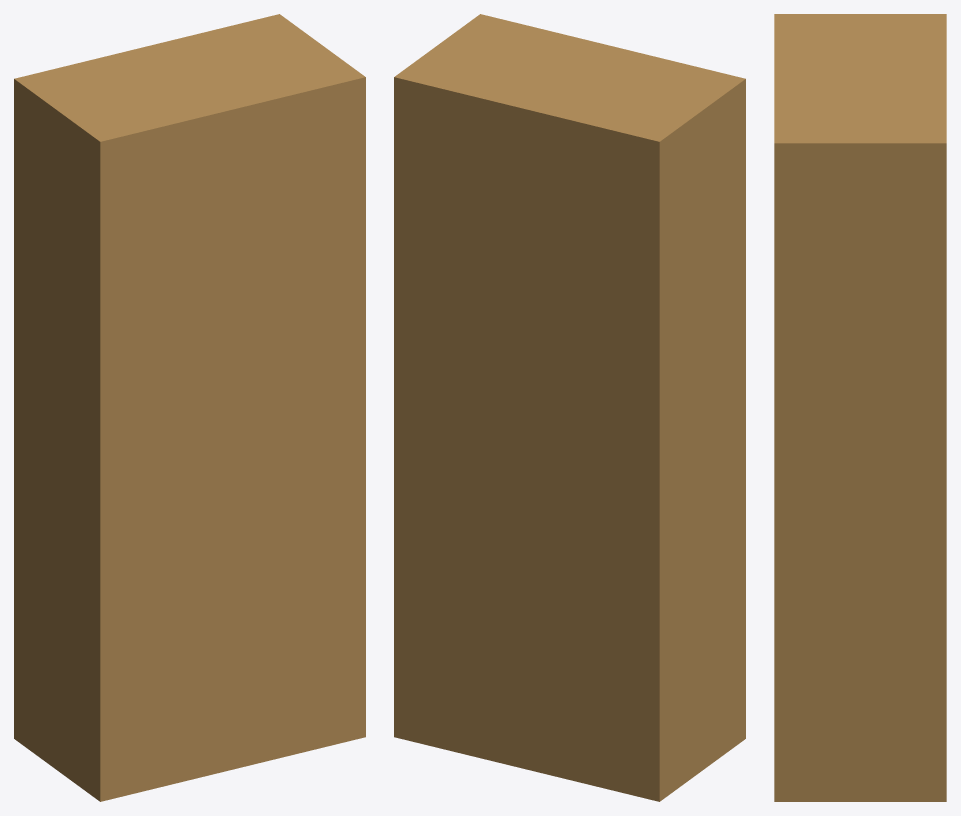
3 renders of one model, left to right at view 1: azimuth 30°, elevation 25°; view 2: azimuth 150°, elevation 25°; view 3: azimuth 270°, elevation 25°, orthographic.
Parts seen in each view (by area): view 1: RUN-069-S00-STUD-01-p2; view 2: RUN-069-S00-STUD-01-p2; view 3: RUN-069-S00-STUD-01-p2.
Boxes of the visible parts, bbox=[...] form: RUN-069-S00-STUD-01-p2: bbox=[14, 14, 365, 801]; RUN-069-S00-STUD-01-p2: bbox=[394, 14, 745, 801]; RUN-069-S00-STUD-01-p2: bbox=[774, 14, 946, 801].
Size of the model in its own units: 0.08 by 0.19 by 0.045.
